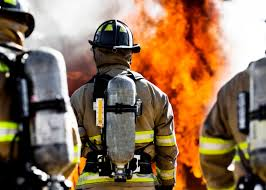emergent: (71, 19, 176, 188), (1, 1, 76, 190)
